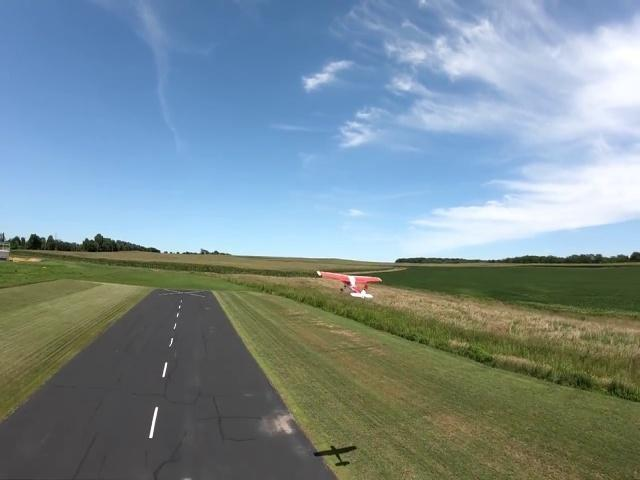Airplane: (316, 270, 382, 298)
